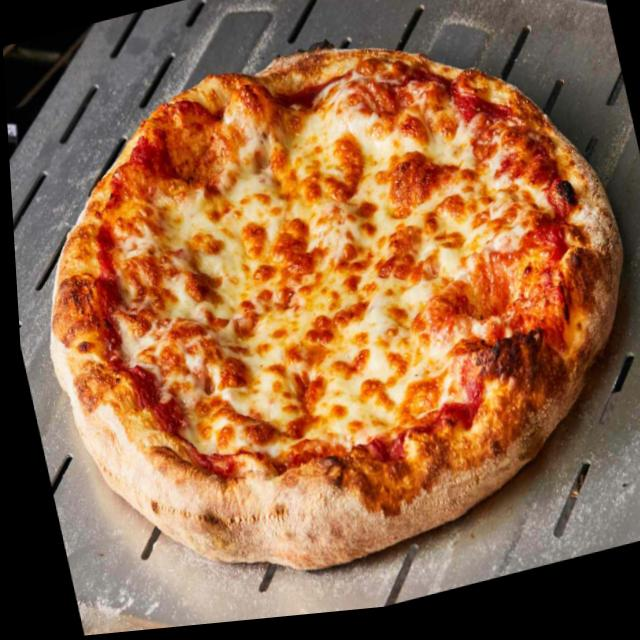pizza: (2, 0, 640, 631)
